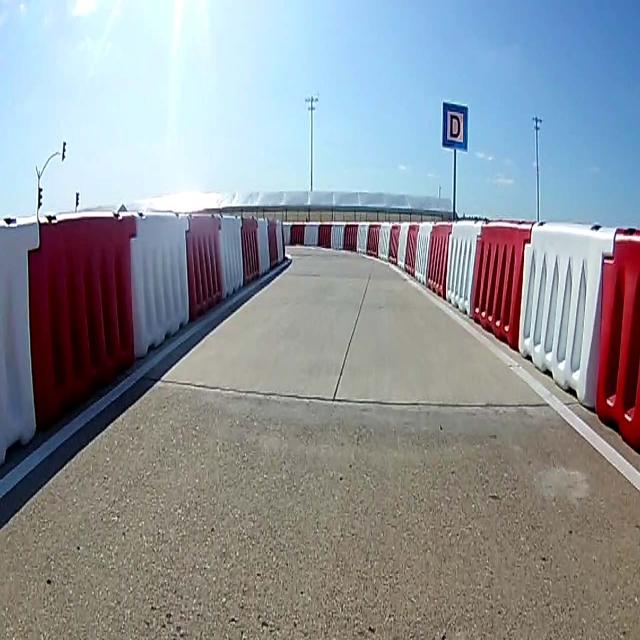durak: (443, 102, 469, 150)
